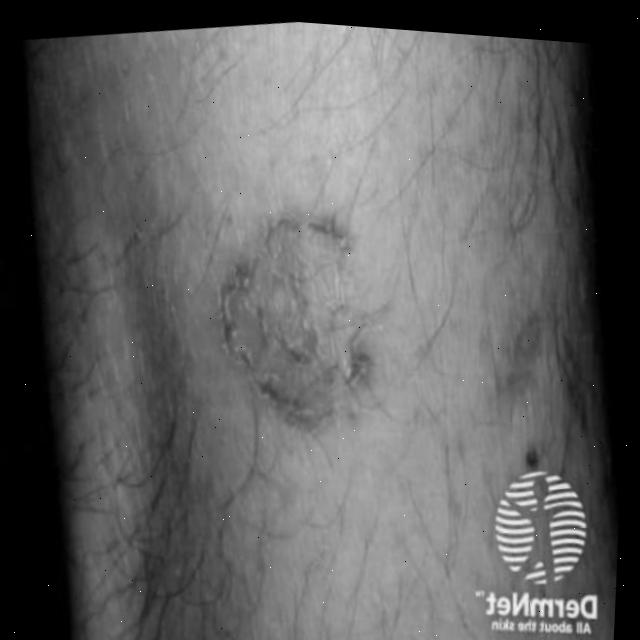Eczema: (198, 232, 370, 431)
